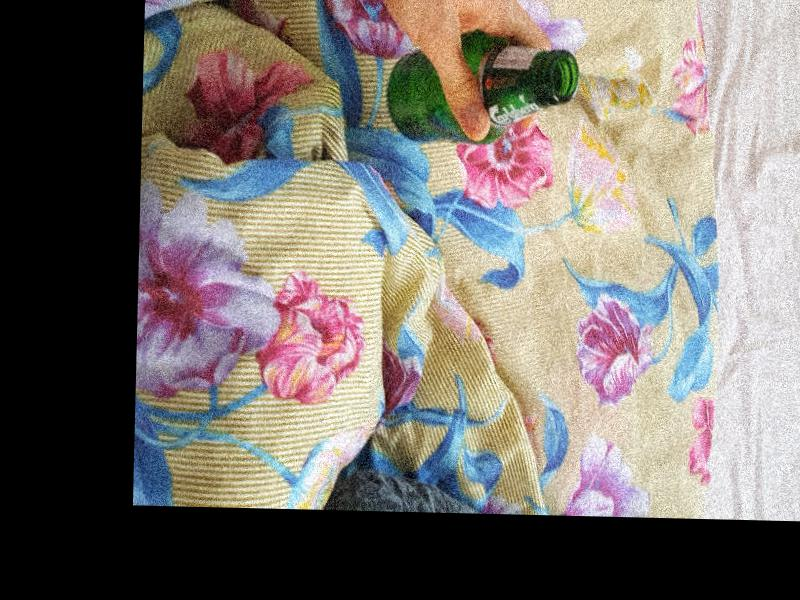Beer: (385, 27, 577, 144)
